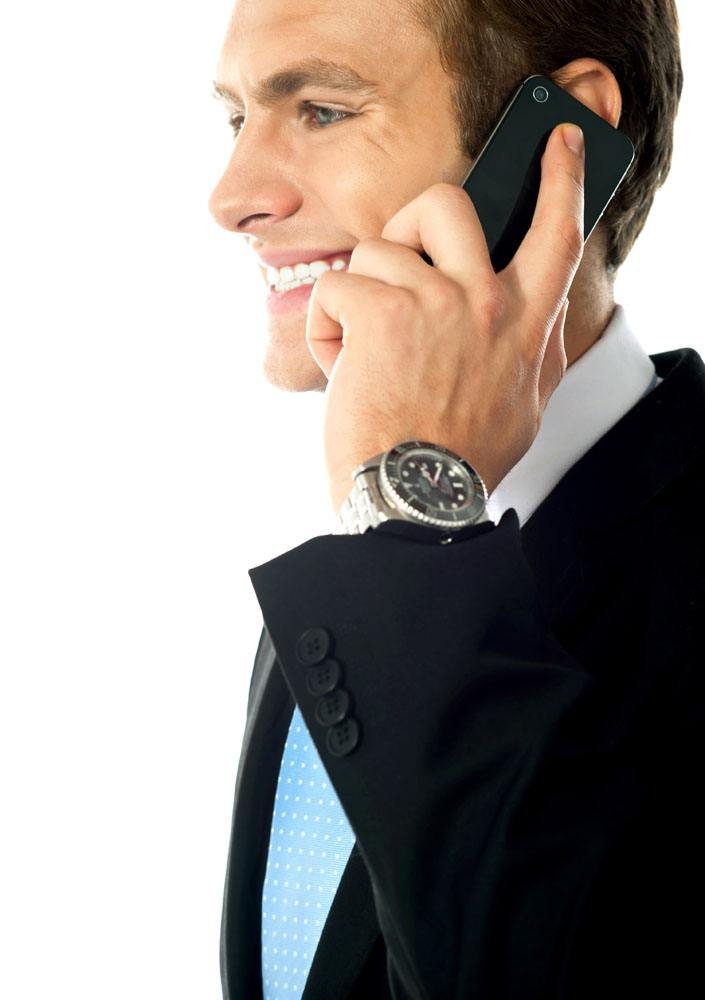calling: (306, 65, 643, 476)
